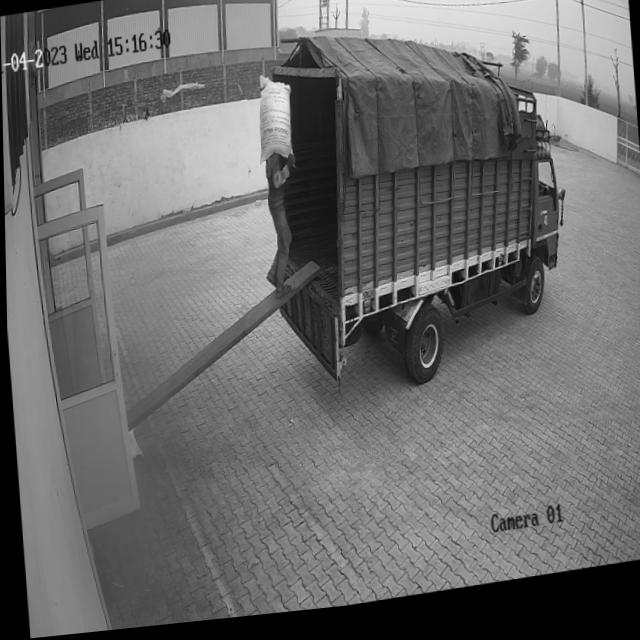sack: (254, 74, 295, 173)
